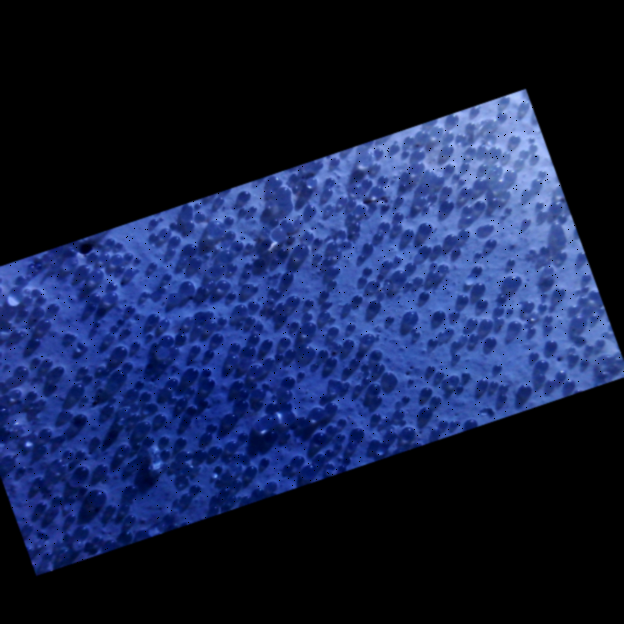GrassBeadSeg: (34, 133, 521, 521), (118, 186, 521, 541), (34, 208, 549, 426), (39, 239, 590, 437), (115, 232, 566, 452), (0, 238, 553, 415), (38, 248, 550, 437), (16, 95, 529, 282), (18, 244, 435, 472), (123, 147, 502, 387), (31, 198, 356, 474), (258, 133, 514, 465), (35, 189, 433, 396), (140, 249, 567, 441), (67, 199, 455, 396), (267, 250, 563, 490), (161, 176, 514, 377), (105, 145, 501, 321), (217, 235, 545, 439), (104, 236, 530, 393), (15, 220, 279, 473), (165, 246, 590, 403), (269, 164, 557, 386), (25, 293, 469, 431), (147, 231, 507, 400), (7, 288, 327, 475), (17, 307, 395, 463), (267, 199, 544, 411), (155, 238, 461, 426), (103, 231, 471, 379), (158, 226, 489, 386), (164, 227, 442, 417), (214, 198, 539, 359), (28, 285, 367, 439), (90, 257, 358, 448), (206, 219, 605, 343), (231, 247, 478, 444), (123, 288, 475, 425), (24, 252, 367, 391), (373, 184, 566, 428), (80, 274, 493, 386), (320, 132, 553, 330), (47, 301, 442, 417), (36, 261, 216, 510), (225, 275, 554, 408), (150, 293, 500, 418), (321, 186, 534, 391), (39, 268, 481, 366), (102, 300, 315, 500), (219, 227, 469, 389), (275, 240, 532, 393), (0, 348, 428, 439), (276, 168, 546, 310), (31, 305, 464, 392), (185, 319, 589, 412), (104, 280, 305, 465), (189, 255, 540, 358), (50, 338, 558, 409), (178, 189, 524, 293), (109, 252, 288, 445), (214, 200, 383, 403), (280, 269, 568, 387), (280, 194, 402, 470), (40, 378, 575, 438), (217, 302, 589, 388), (46, 257, 516, 325), (247, 213, 567, 311), (35, 294, 364, 389), (405, 229, 549, 440), (84, 278, 371, 383), (0, 262, 225, 395), (251, 316, 605, 398), (247, 311, 503, 422), (134, 289, 331, 433), (380, 179, 512, 386), (265, 162, 489, 282), (49, 293, 383, 373), (73, 234, 182, 477), (76, 364, 308, 477), (320, 177, 491, 329), (31, 400, 338, 484), (10, 241, 273, 337), (193, 179, 281, 456), (95, 382, 365, 472), (289, 298, 432, 462), (152, 160, 324, 294), (299, 268, 408, 474), (171, 169, 547, 228), (229, 239, 438, 345), (352, 203, 568, 301), (18, 314, 354, 373), (224, 310, 329, 496), (110, 252, 293, 356), (225, 184, 454, 267), (15, 290, 237, 375), (24, 202, 204, 300), (118, 241, 198, 454), (259, 250, 430, 349), (4, 393, 276, 451), (182, 147, 425, 208), (275, 314, 478, 386), (417, 202, 548, 310), (39, 319, 317, 368), (119, 280, 213, 422), (0, 364, 116, 472), (87, 268, 199, 379), (395, 199, 583, 262), (377, 173, 543, 243), (366, 258, 516, 327), (153, 256, 191, 526), (236, 260, 462, 305), (258, 387, 423, 447), (312, 252, 358, 447), (118, 240, 586, 259), (12, 355, 338, 379), (263, 369, 444, 412), (25, 460, 116, 545), (109, 368, 292, 409), (24, 287, 109, 371), (409, 106, 523, 168), (321, 184, 378, 307), (416, 220, 522, 286), (333, 240, 367, 441), (135, 218, 250, 277), (337, 379, 458, 435), (469, 243, 551, 325), (485, 288, 599, 346), (448, 342, 609, 383), (506, 247, 586, 329), (352, 261, 436, 335), (329, 272, 412, 343), (371, 201, 477, 256), (427, 297, 504, 372), (324, 257, 486, 292), (542, 284, 605, 374), (90, 290, 180, 352), (1, 407, 114, 455), (27, 263, 91, 346), (263, 411, 330, 490), (246, 176, 317, 246), (434, 232, 479, 342), (30, 311, 161, 347), (24, 522, 166, 555), (0, 361, 46, 459), (56, 457, 138, 511), (316, 417, 406, 465), (86, 430, 144, 504), (458, 164, 526, 223), (292, 243, 380, 288), (182, 413, 272, 457), (92, 387, 139, 471), (415, 279, 494, 327), (325, 380, 382, 445), (122, 483, 218, 521), (209, 442, 345, 468), (172, 459, 253, 502), (447, 309, 502, 371), (382, 177, 486, 209), (209, 331, 251, 409), (196, 278, 238, 355), (484, 299, 553, 345), (0, 287, 40, 366), (224, 202, 315, 236), (477, 119, 539, 164), (134, 435, 245, 460), (444, 105, 506, 149), (390, 129, 442, 180), (37, 246, 140, 271), (411, 308, 461, 358), (249, 318, 300, 361), (242, 340, 258, 474), (501, 213, 559, 249), (213, 186, 333, 202), (403, 309, 468, 338), (326, 264, 483, 276), (150, 331, 201, 367), (416, 183, 486, 209), (461, 204, 496, 256), (478, 137, 528, 173), (299, 342, 368, 367), (273, 218, 339, 244), (130, 332, 178, 367), (224, 215, 258, 264), (226, 262, 281, 292), (61, 447, 208, 458), (97, 290, 131, 337), (325, 202, 374, 234), (174, 478, 242, 501), (426, 161, 474, 193), (266, 178, 313, 209), (430, 124, 476, 153), (163, 361, 188, 410), (230, 341, 262, 375), (250, 380, 278, 418), (393, 168, 441, 189), (115, 251, 158, 272), (259, 271, 281, 312), (114, 240, 177, 254), (245, 256, 278, 277), (102, 401, 139, 416), (181, 459, 228, 468), (31, 257, 53, 265), (309, 462, 318, 477), (139, 390, 149, 399)
